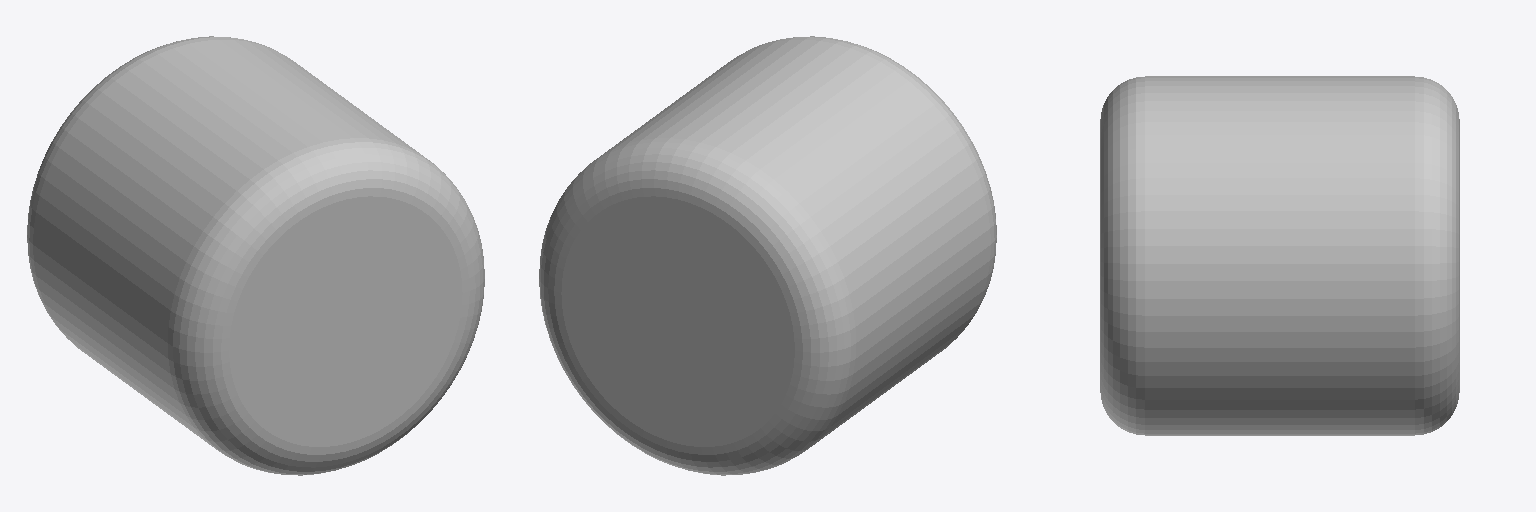
The model's file is hq_rcylinder.obj.
The picture shows the model from 3 angles: view 1: azimuth 30°, elevation 25°; view 2: azimuth 150°, elevation 25°; view 3: azimuth 270°, elevation 25°; orthographic projection.
Visible parts, largest first — view 1: studio.hq_rcyl_lod1.smd.mesh_0; view 2: studio.hq_rcyl_lod1.smd.mesh_0; view 3: studio.hq_rcyl_lod1.smd.mesh_0.
Part boxes in pixels (x1,y1,x2,y2): studio.hq_rcyl_lod1.smd.mesh_0: (27,36,484,475); studio.hq_rcyl_lod1.smd.mesh_0: (539,36,996,475); studio.hq_rcyl_lod1.smd.mesh_0: (1100,76,1459,435).
Size of the model in its own units: 12 by 12 by 12.